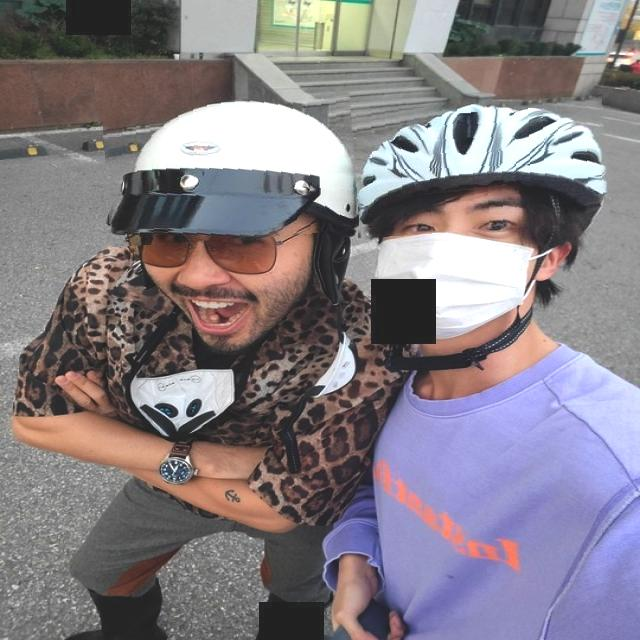helmet: (104, 96, 357, 243), (351, 99, 608, 234)
